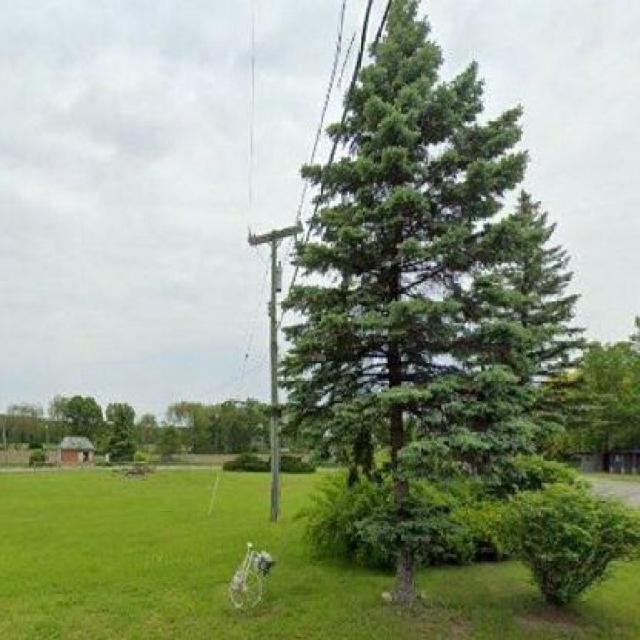pole: (243, 218, 305, 514)
